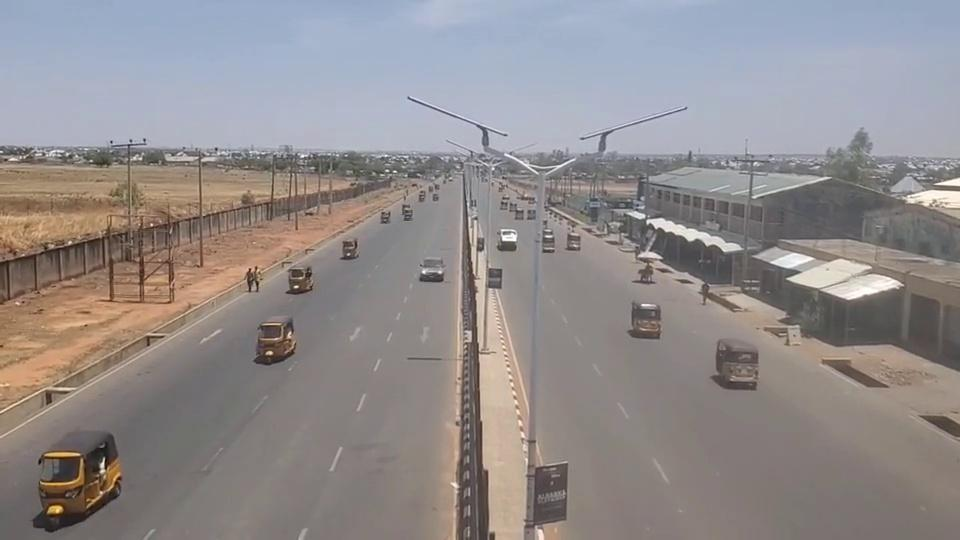keke: (36, 429, 122, 527), (714, 337, 759, 387), (255, 316, 296, 363), (630, 300, 661, 338)
